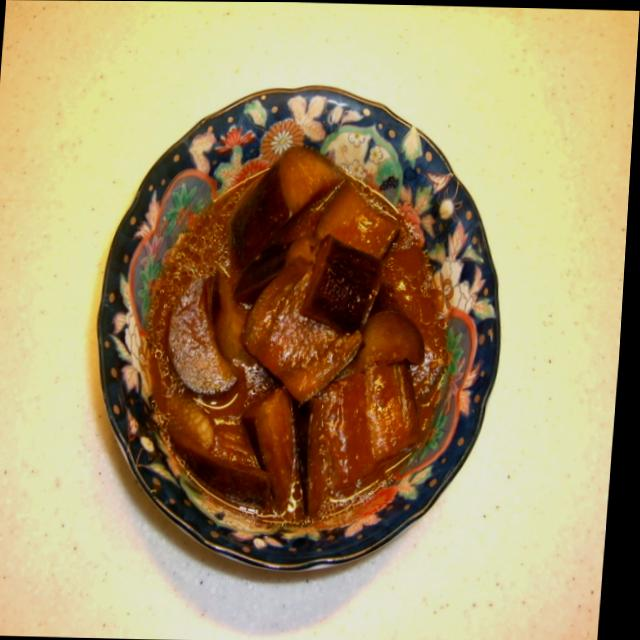鸡蛋料理: (112, 113, 503, 550)
